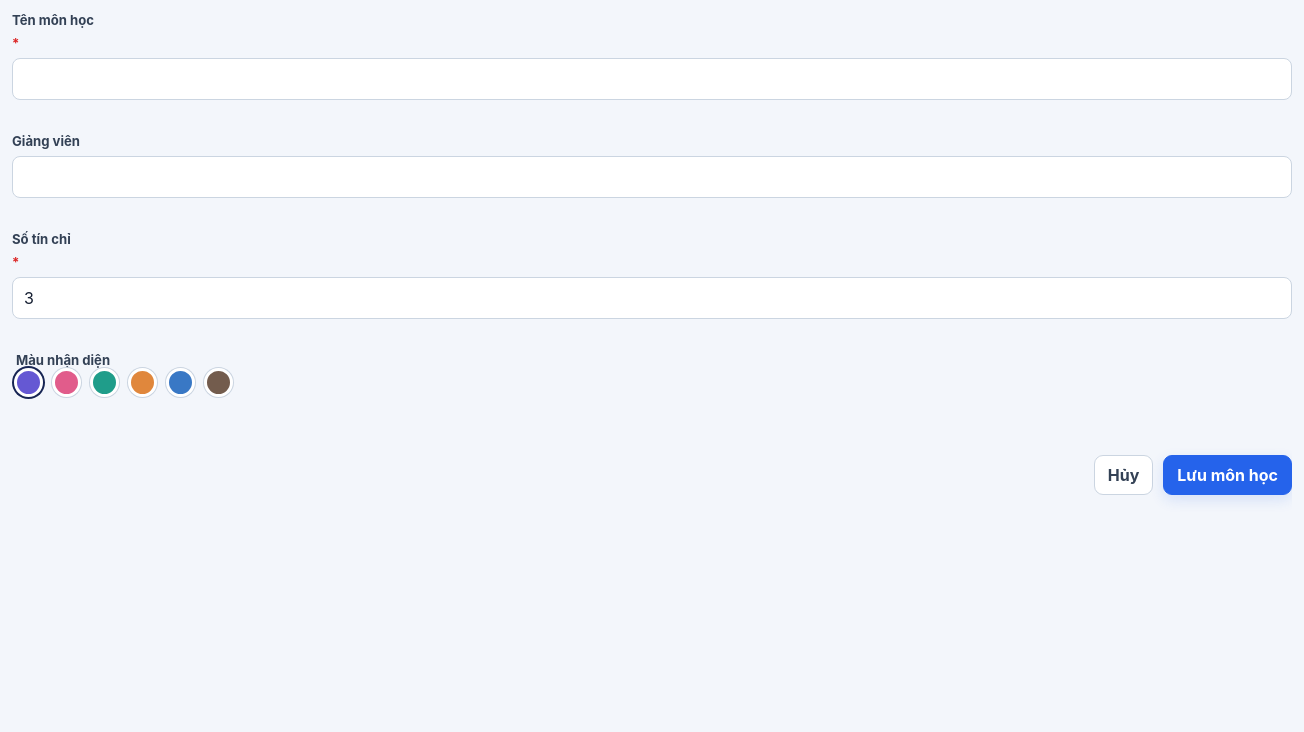
Test: Accessibility (A11y) Baseline Test Suite › Form accessibility & labels › links input error messages via aria-describedby in CourseForm
Step 1. Click the button "Lưu môn học" → (1228, 475), box 1163,455 -> 1292,495
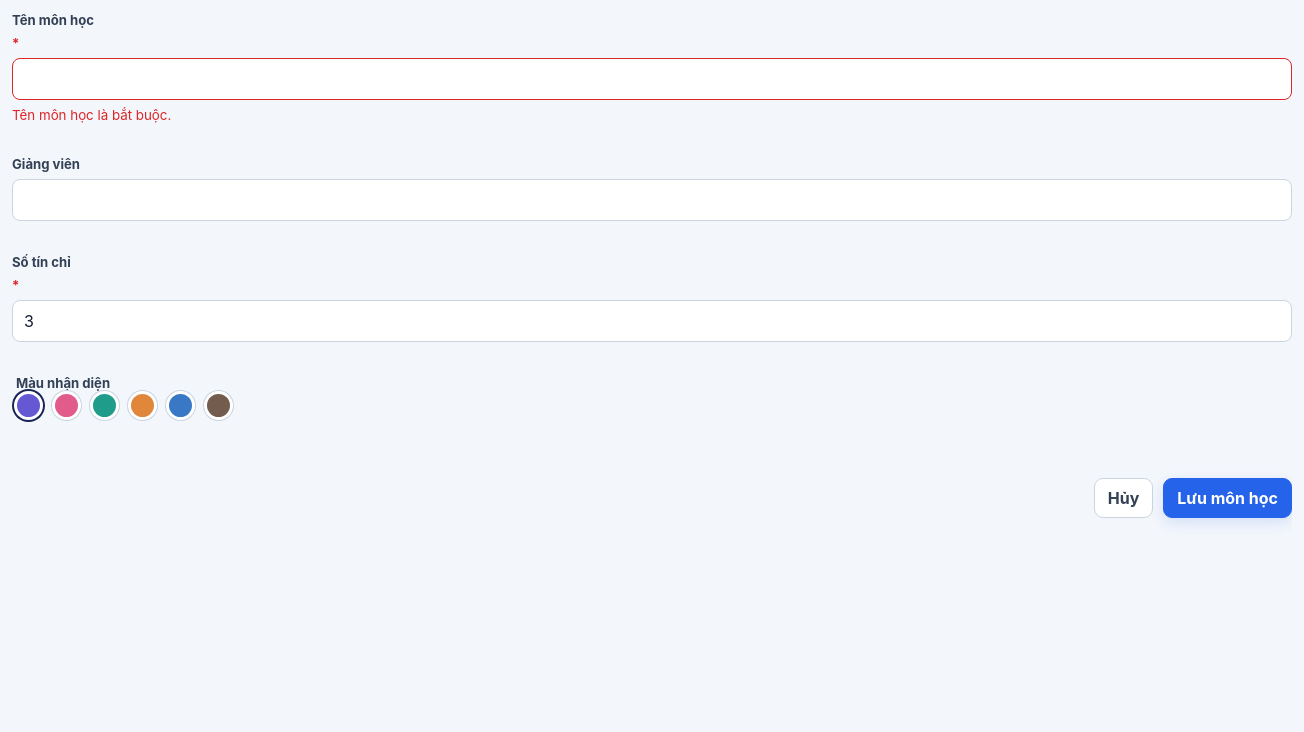
Now the text with id "course-name-error" shows "Tên môn học là bắt buộc", box 12,107 -> 171,123
